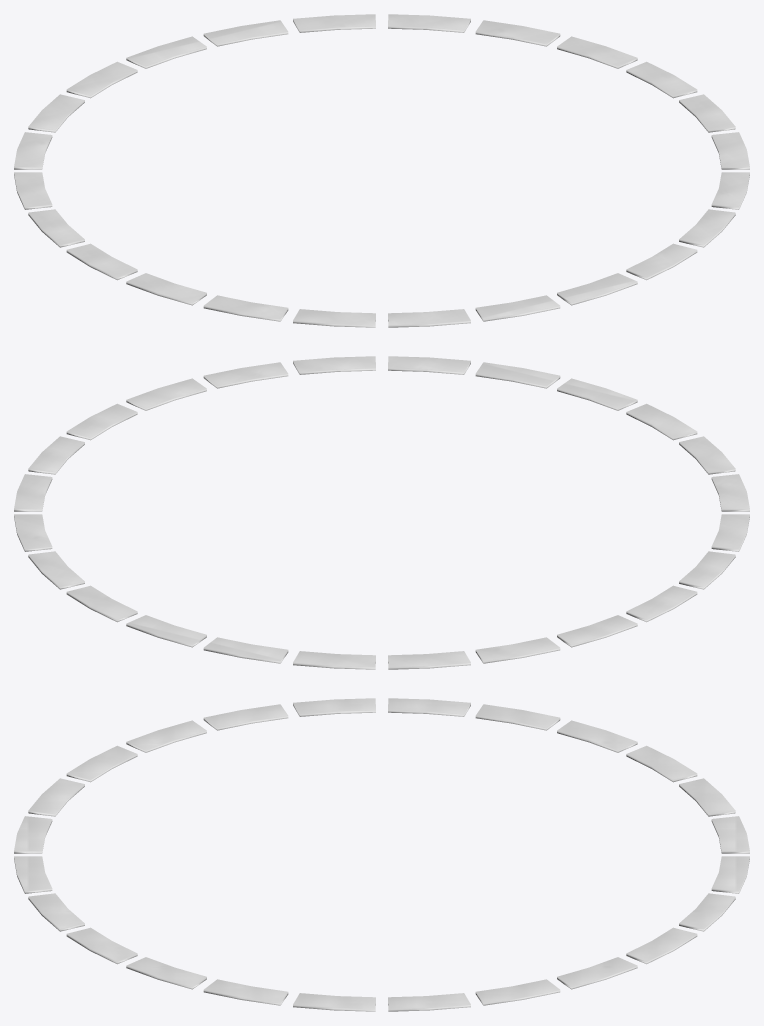
Rendered from capture.ring.glb.
3 renders of one model, top to bottom at view 1: azimuth 30°, elevation 25°; view 2: azimuth 150°, elevation 25°; view 3: azimuth 270°, elevation 25°, orthographic.
Parts seen in each view (by area): view 1: seg.08, seg.11, seg.20, seg.23, seg.09, seg.10, seg.21, seg.22, seg.00, seg.07, seg.12, seg.19 (+12 smaller); view 2: seg.00, seg.03, seg.12, seg.15, seg.01, seg.02, seg.13, seg.14, seg.04, seg.11, seg.16, seg.23 (+12 smaller); view 3: seg.04, seg.07, seg.16, seg.19, seg.05, seg.06, seg.17, seg.18, seg.03, seg.08, seg.15, seg.20 (+12 smaller).
Boxes of the visible parts, x1,y1,x2,y2 form: seg.08: [475, 20, 560, 46]; seg.11: [203, 20, 288, 46]; seg.20: [203, 295, 288, 321]; seg.23: [475, 295, 560, 321]; seg.09: [388, 14, 470, 32]; seg.10: [293, 14, 375, 32]; seg.21: [293, 309, 375, 327]; seg.22: [388, 309, 470, 327]; seg.00: [557, 273, 637, 305]; seg.07: [557, 36, 637, 68]; seg.12: [126, 36, 206, 68]; seg.19: [126, 273, 206, 305]; seg.00: [475, 362, 560, 388]; seg.03: [203, 362, 288, 388]; seg.12: [203, 637, 288, 663]; seg.15: [475, 637, 560, 663]; seg.01: [388, 356, 470, 374]; seg.02: [293, 356, 375, 374]; seg.13: [293, 651, 375, 669]; seg.14: [388, 651, 470, 669]; seg.04: [126, 378, 206, 410]; seg.11: [126, 615, 206, 647]; seg.16: [557, 615, 637, 647]; seg.23: [557, 378, 637, 410]; seg.04: [203, 979, 288, 1005]; seg.07: [475, 979, 560, 1005]; seg.16: [475, 704, 560, 730]; seg.19: [203, 704, 288, 730]; seg.05: [293, 993, 375, 1011]; seg.06: [388, 993, 470, 1011]; seg.17: [388, 698, 470, 716]; seg.18: [293, 698, 375, 716]; seg.03: [126, 957, 206, 989]; seg.08: [557, 957, 637, 989]; seg.15: [557, 720, 637, 752]; seg.20: [126, 720, 206, 752].
Bounding box in the file's own units: 2.08 × 0.008 × 2.08.
Materials: 1 (1 with a texture image).
